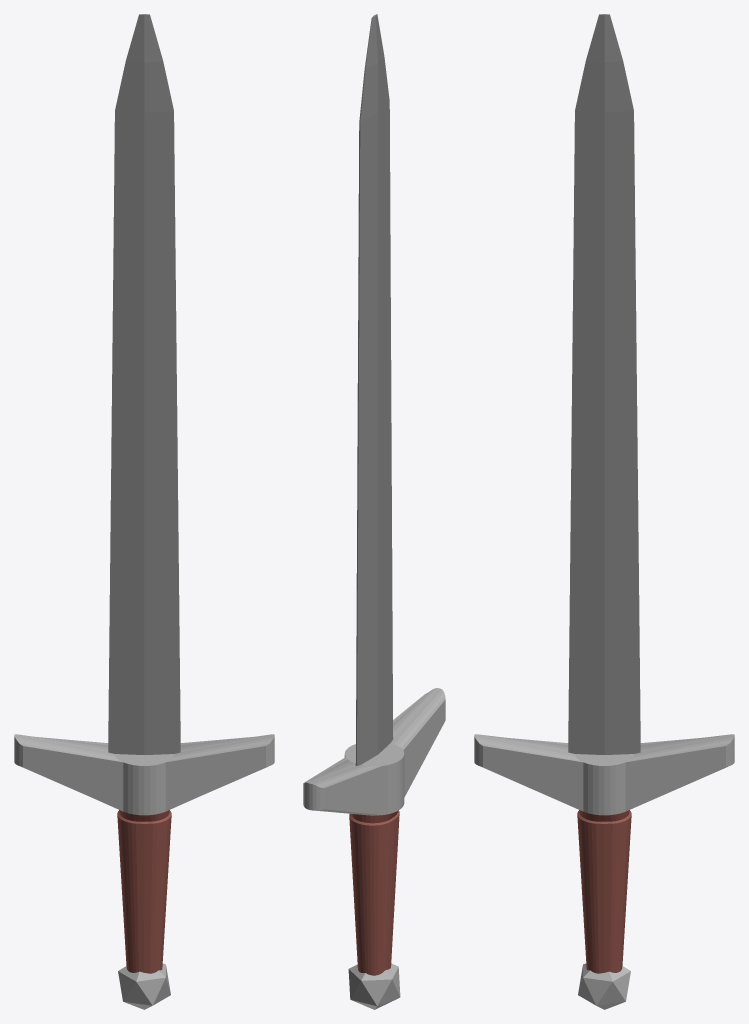
File: Basic Sword.fbx
3 renders of one model, left to right at view 1: azimuth 90°, elevation 25°; view 2: azimuth 150°, elevation 25°; view 3: azimuth 270°, elevation 25°, orthographic.
Visible parts, largest first — view 1: Basic Sword; view 2: Basic Sword; view 3: Basic Sword.
Boxes of the visible parts, x1,y1,x2,y2 form: Basic Sword: (14,14,274,1009); Basic Sword: (303,14,445,1009); Basic Sword: (474,14,734,1009).
Bounding box in the file's own units: 19.85 × 365 × 86.51.
